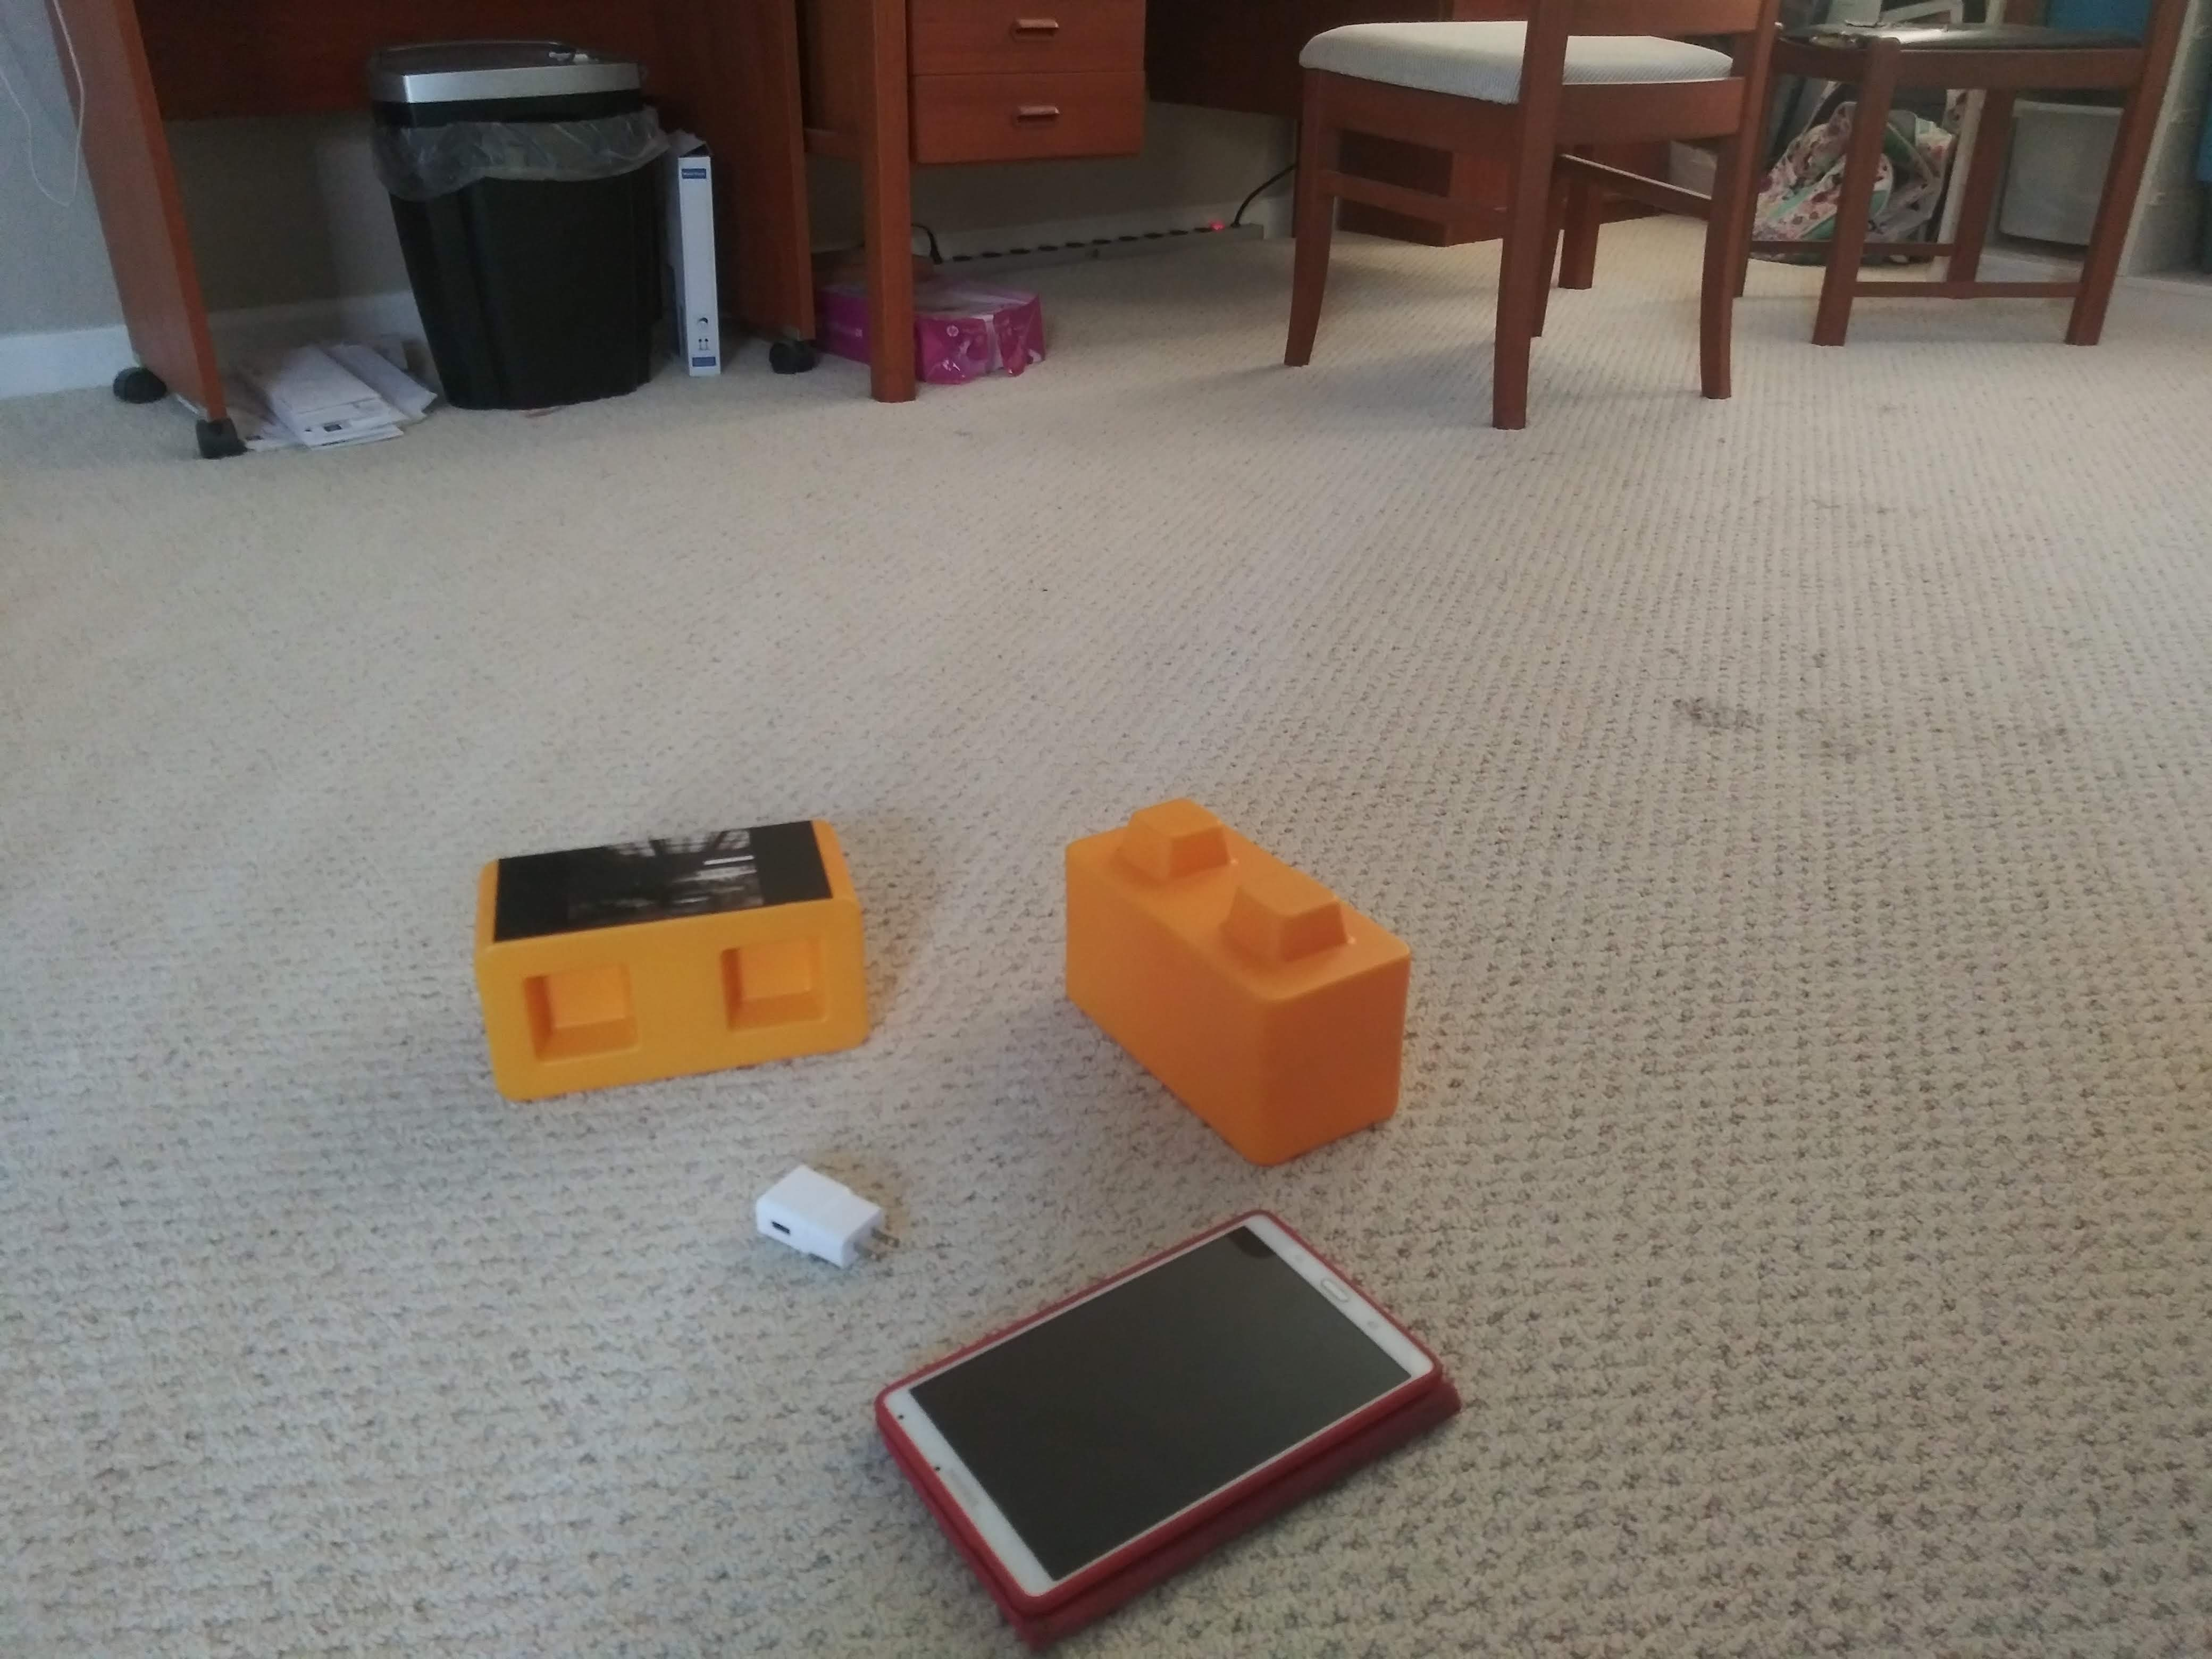skystone: (477, 835, 874, 1079)
stone: (1057, 810, 1413, 1150)
